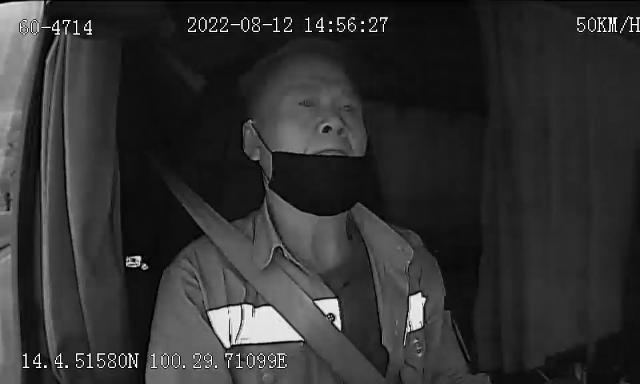SafeDriving: (290, 90, 324, 116), (332, 94, 364, 120)
Seatbelt: (143, 167, 401, 384)
